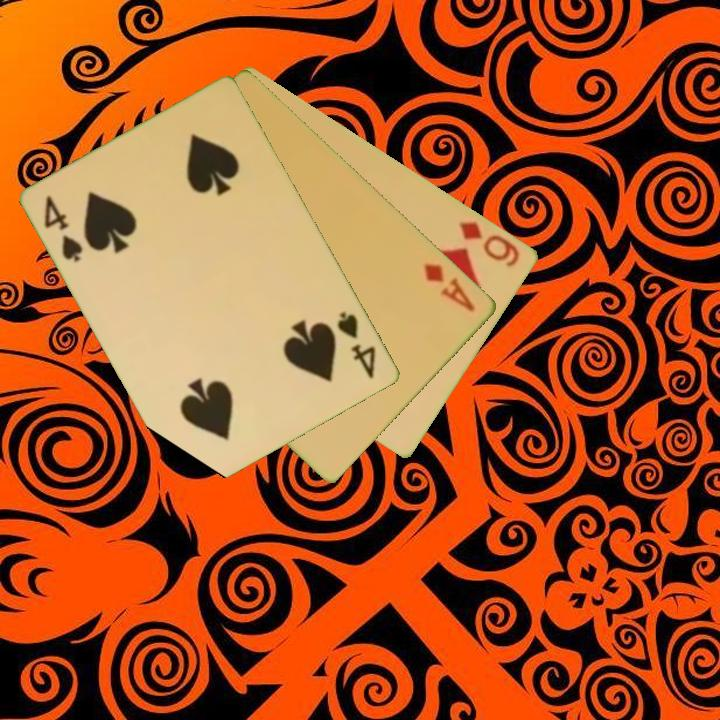4s: (334, 308, 380, 383), (41, 192, 87, 266)
6d: (455, 218, 523, 270)
Ad: (420, 260, 479, 315)
